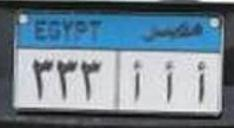3: (56, 57, 80, 102), (30, 56, 54, 100), (80, 58, 102, 103)
alif: (161, 58, 180, 105), (195, 59, 208, 108), (129, 60, 144, 102)
